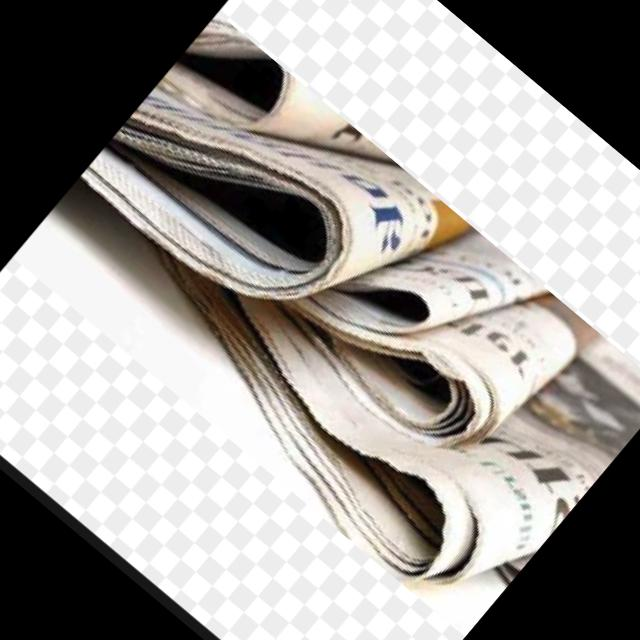Koran: (13, 9, 640, 635)
